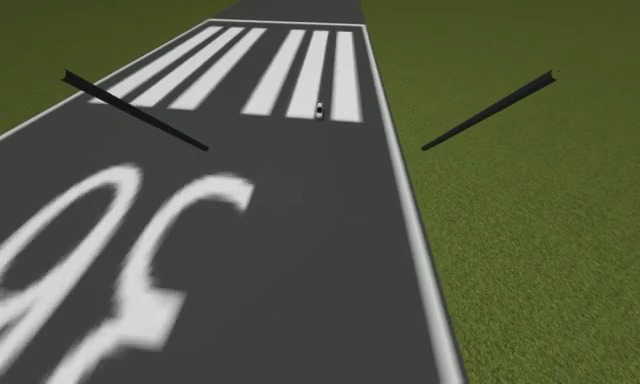Car: (315, 102, 325, 120)
